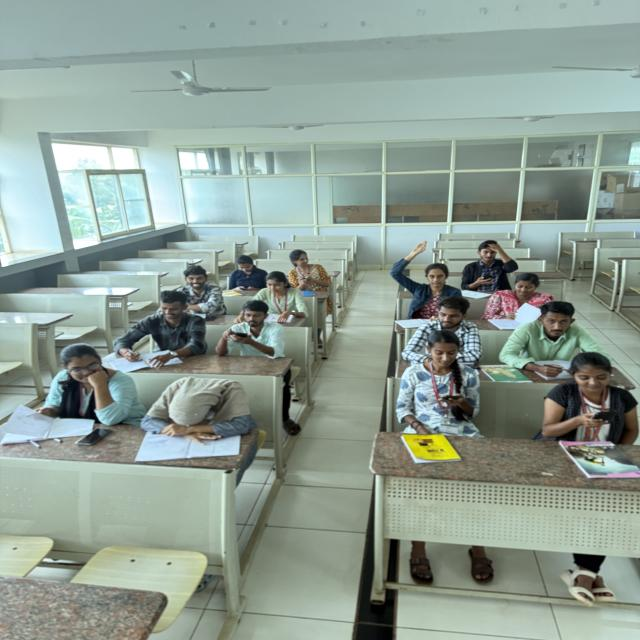Hand Rising: (386, 238, 462, 314)
Reading: (485, 271, 549, 325)
Sleeping: (143, 372, 255, 441)
Using Phone: (532, 347, 638, 449), (396, 328, 488, 430), (458, 239, 524, 294), (216, 299, 282, 350), (280, 247, 330, 293), (226, 254, 267, 291)
Writing: (105, 288, 208, 360)
